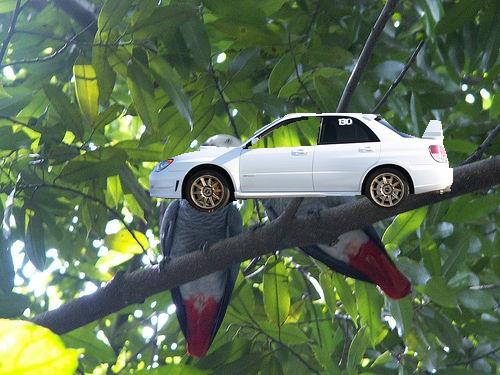tampered: (150, 114, 453, 212)
